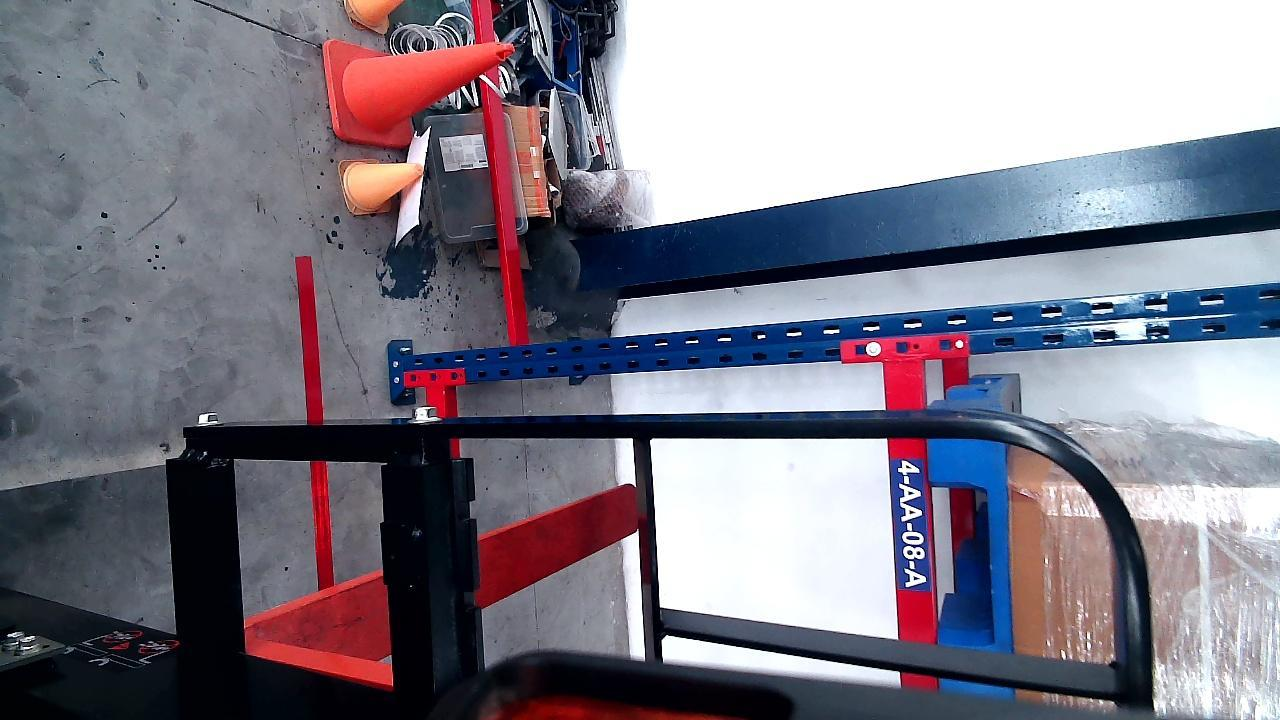red_line: (294, 254, 332, 598)
